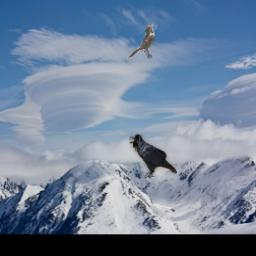Crow: (130, 134, 178, 177)
Sparrow: (128, 23, 155, 59)
